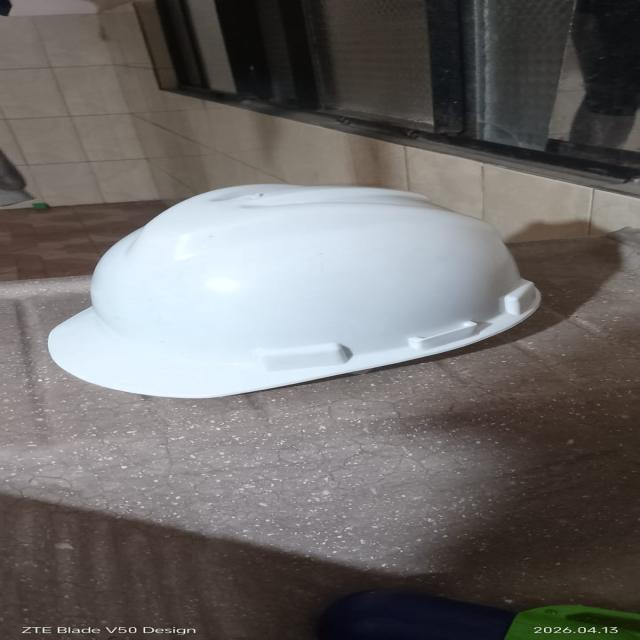casco: (44, 182, 560, 406)
